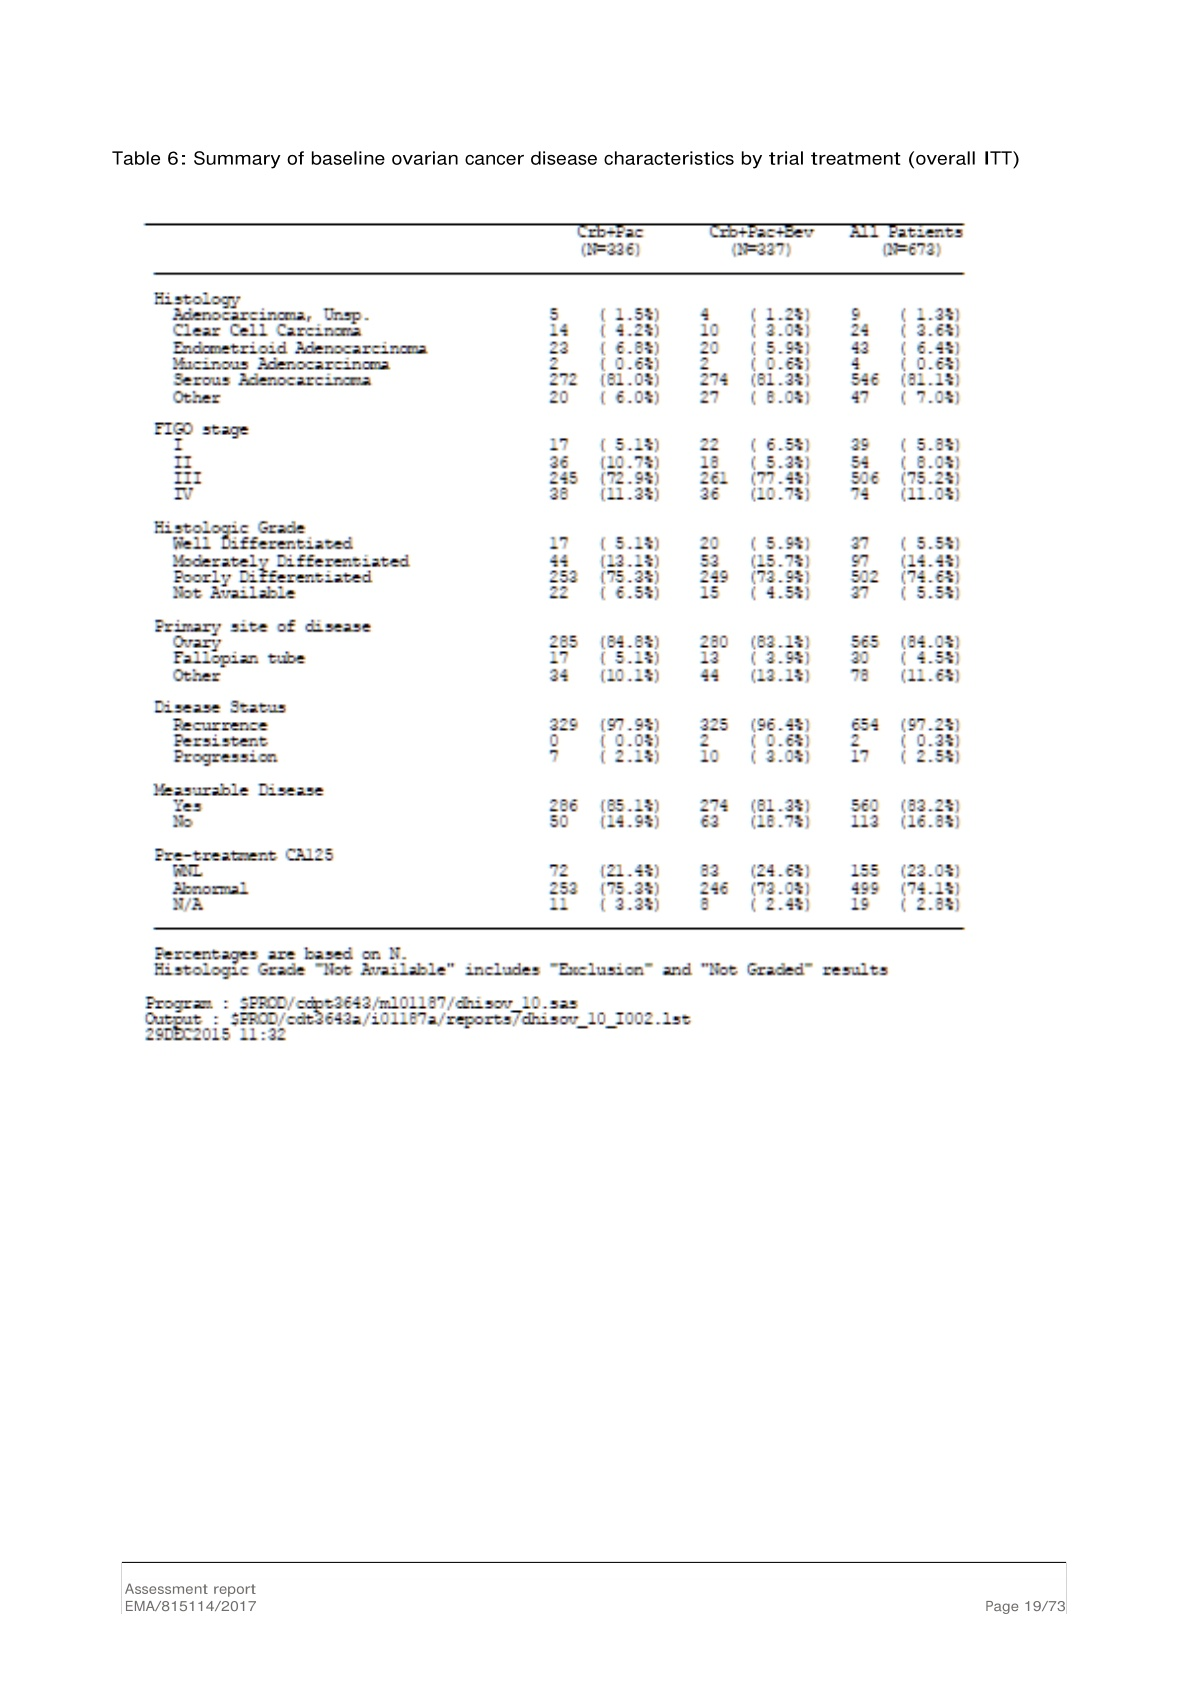partial_lined_merged_cells: (144, 222, 967, 932)
